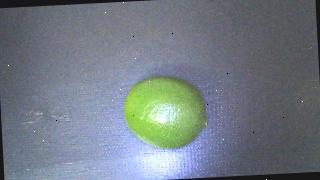EXPORTACION: (122, 74, 208, 151)
